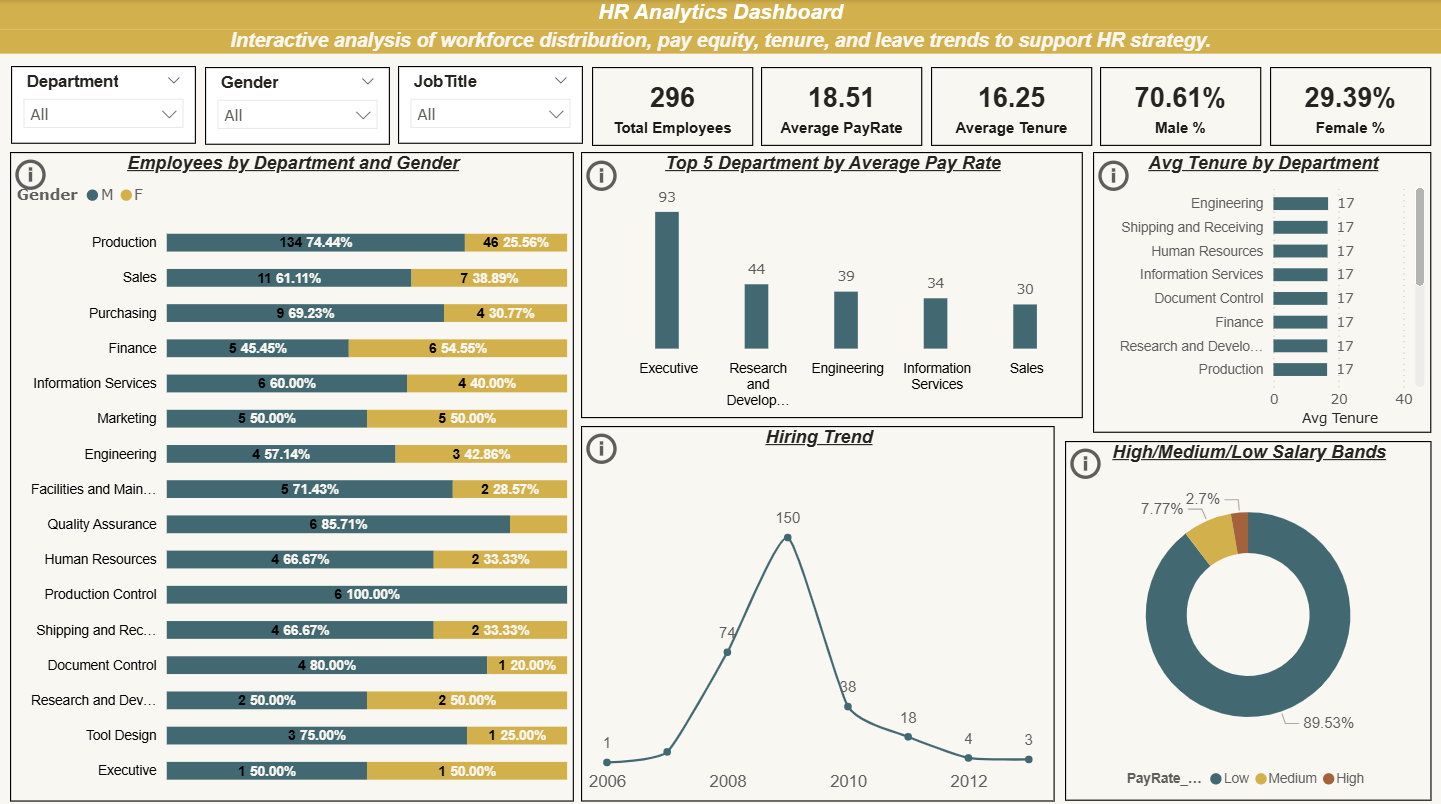

Layout of this report page (visuals, bound fields, positions):
{"tool":"powerbi","page":{"name":"HR","canvas":[1280,720],"ordinal":4},"visuals":[{"type":"card","fields":{"Values":["CountNonNull(hr.EmployeeID)"]},"box":[525.6,59.4,142.8,70],"z":0},{"type":"card","fields":{"Values":["Avg(hr.TenureYears)"]},"box":[826.3,59.4,142.8,70],"z":1000},{"type":"barChart","title":"Avg Tenure by Department","fields":{"Category":["hr.Department"],"Y":["Avg(hr.TenureYears)"]},"box":[970.2,135.1,299.9,249.2],"z":2000},{"type":"hundredPercentStackedBarChart","title":"Employees by Department and Gender","fields":{"Category":["hr.Department"],"Series":["hr.Gender"],"Y":["CountNonNull(hr.EmployeeID)"]},"box":[10.1,134.4,500.1,575.8],"z":3000},{"type":"card","fields":{"Values":["Avg(hr.PayRate)"]},"box":[675.9,59.4,142.8,70],"z":4000},{"type":"card","fields":{"Values":["HRMeasures.Male %"]},"box":[976.6,59.4,142.8,70],"z":5000},{"type":"columnChart","title":"Top 5 Department by Average Pay Rate","fields":{"Y":["Avg(hr.PayRate)"],"Category":["hr.Department"]},"box":[516.4,135.1,444.9,236.3],"z":6000},{"type":"lineChart","title":"Hiring Trend ","fields":{"Y":["CountNonNull(hr.EmployeeID)"],"Category":["hr.HireDate.Variation.Date Hierarchy.Year"]},"box":[516.4,377.3,420,332.7],"z":7000},{"type":"slicer","fields":{"Values":["hr.Department"]},"box":[10.6,58.5,164,69.2],"z":8000},{"type":"slicer","fields":{"Values":["hr.Gender"]},"box":[182.3,59.4,164,69.2],"z":9000},{"type":"slicer","fields":{"Values":["hr.JobTitle"]},"box":[353.9,58.5,164,69.2],"z":10000},{"type":"shape","title":"HR Analytics Dashboard","box":[0,0,1279.6,47.6],"z":11000},{"type":"card","fields":{"Values":["HRMeasures.Female %"]},"box":[1127,59.4,142.8,70],"z":12000},{"type":"donutChart","title":"High/Medium/Low Salary Bands","fields":{"Category":["hr.PayRate_Band"],"Y":["CountNonNull(hr.EmployeeID)"]},"box":[945.4,391.2,324.7,318.8],"z":13000},{"type":"actionButton","box":[10.1,134.4,36.4,40.4],"z":14000},{"type":"actionButton","box":[516.2,135.4,36.4,40.4],"z":15000},{"type":"actionButton","box":[969.9,135.4,36.4,40.4],"z":16000},{"type":"actionButton","box":[516.2,377.8,36.4,40.4],"z":17000},{"type":"actionButton","box":[945.6,391,36.4,40.4],"z":18000}]}

Visuals, with their boxes in screenshot pixels (x1, y1, x2, y2), scaled from the page's 1280x720 canvas onto the 1441x804 screenshot:
card - CountNonNull(hr.EmployeeID): 592/66/752/144
card - Avg(hr.TenureYears): 930/66/1091/144
"Avg Tenure by Department" barChart: 1092/151/1430/429
"Employees by Department and Gender" hundredPercentStackedBarChart: 11/150/574/793
card - Avg(hr.PayRate): 761/66/922/144
card - HRMeasures.Male %: 1099/66/1260/144
"Top 5 Department by Average Pay Rate" columnChart: 581/151/1082/415
"Hiring Trend " lineChart: 581/421/1054/793
slicer - hr.Department: 12/65/197/143
slicer - hr.Gender: 205/66/390/144
slicer - hr.JobTitle: 398/65/583/143
"HR Analytics Dashboard" shape: 0/0/1440/53
card - HRMeasures.Female %: 1269/66/1430/144
"High/Medium/Low Salary Bands" donutChart: 1064/437/1430/793
actionButton: 11/150/52/195
actionButton: 581/151/622/196
actionButton: 1092/151/1133/196
actionButton: 581/422/622/467
actionButton: 1065/437/1106/482
